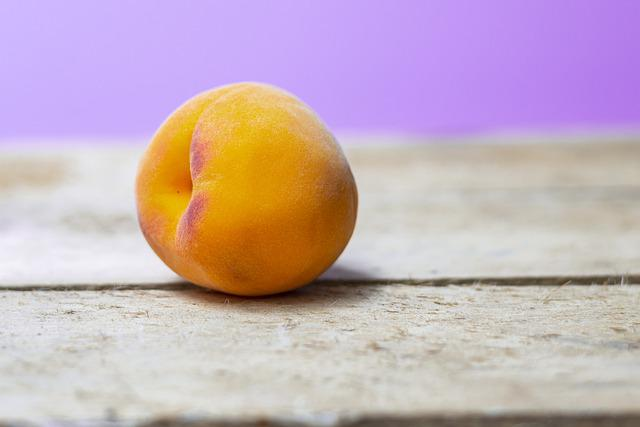peach: (131, 81, 358, 296)
